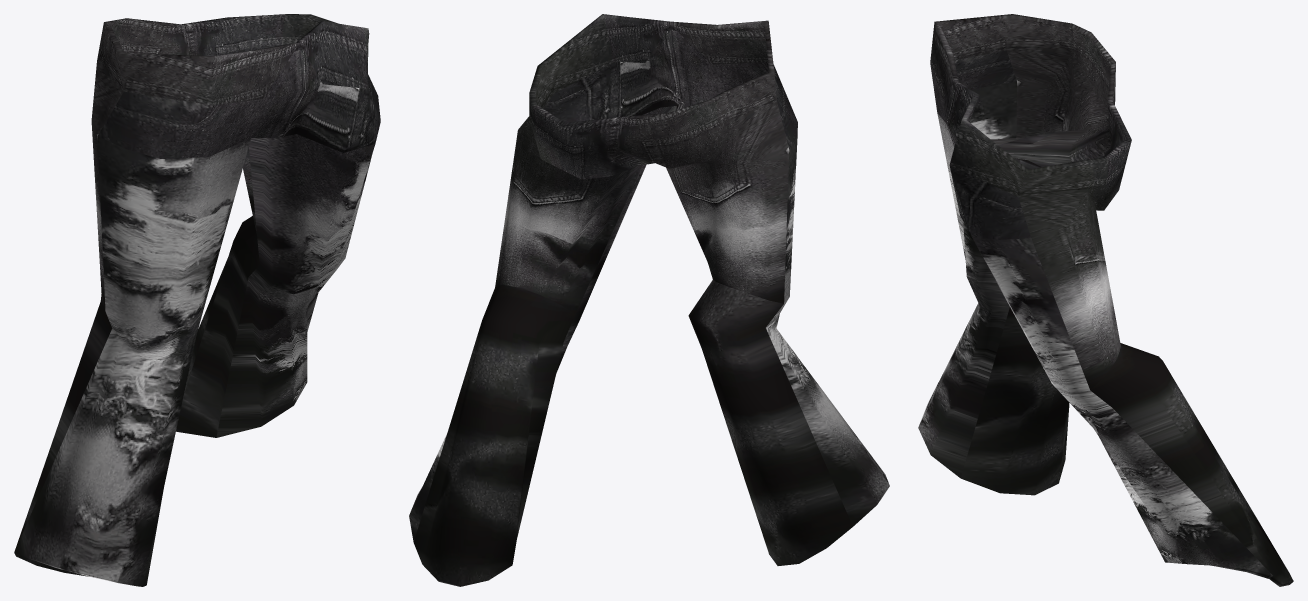
The model's file is Bottom1.fbx.
3 renders of one model, left to right at view 1: azimuth 30°, elevation 25°; view 2: azimuth 150°, elevation 25°; view 3: azimuth 270°, elevation 25°, orthographic. The views are drawn at different scales.
Visible parts, largest first — view 1: F.Bottom.Long; view 2: F.Bottom.Long; view 3: F.Bottom.Long.
Boxes of the visible parts, x1,y1,x2,y2 form: F.Bottom.Long: (14,14,380,586); F.Bottom.Long: (409,14,889,586); F.Bottom.Long: (918,14,1293,586).
Size of the model in its own units: 490 by 650 by 444.
